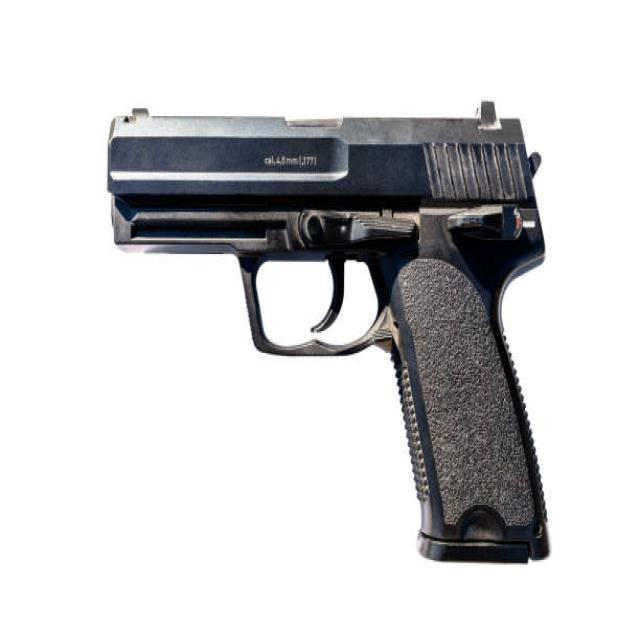pistol: (94, 91, 567, 579)
